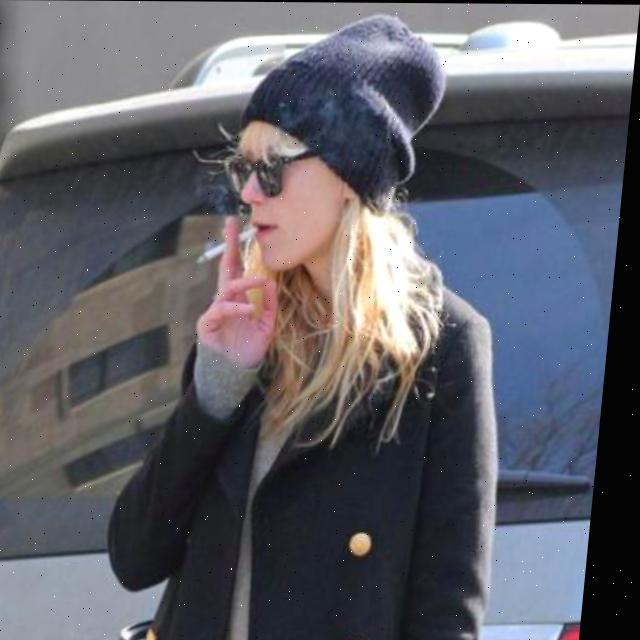cigarette: (199, 226, 263, 267)
